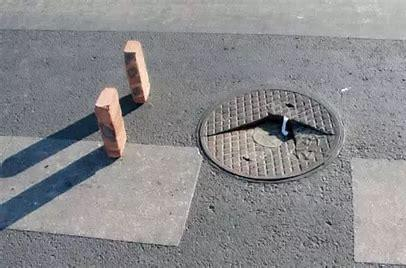wellcover: (195, 69, 347, 189)
